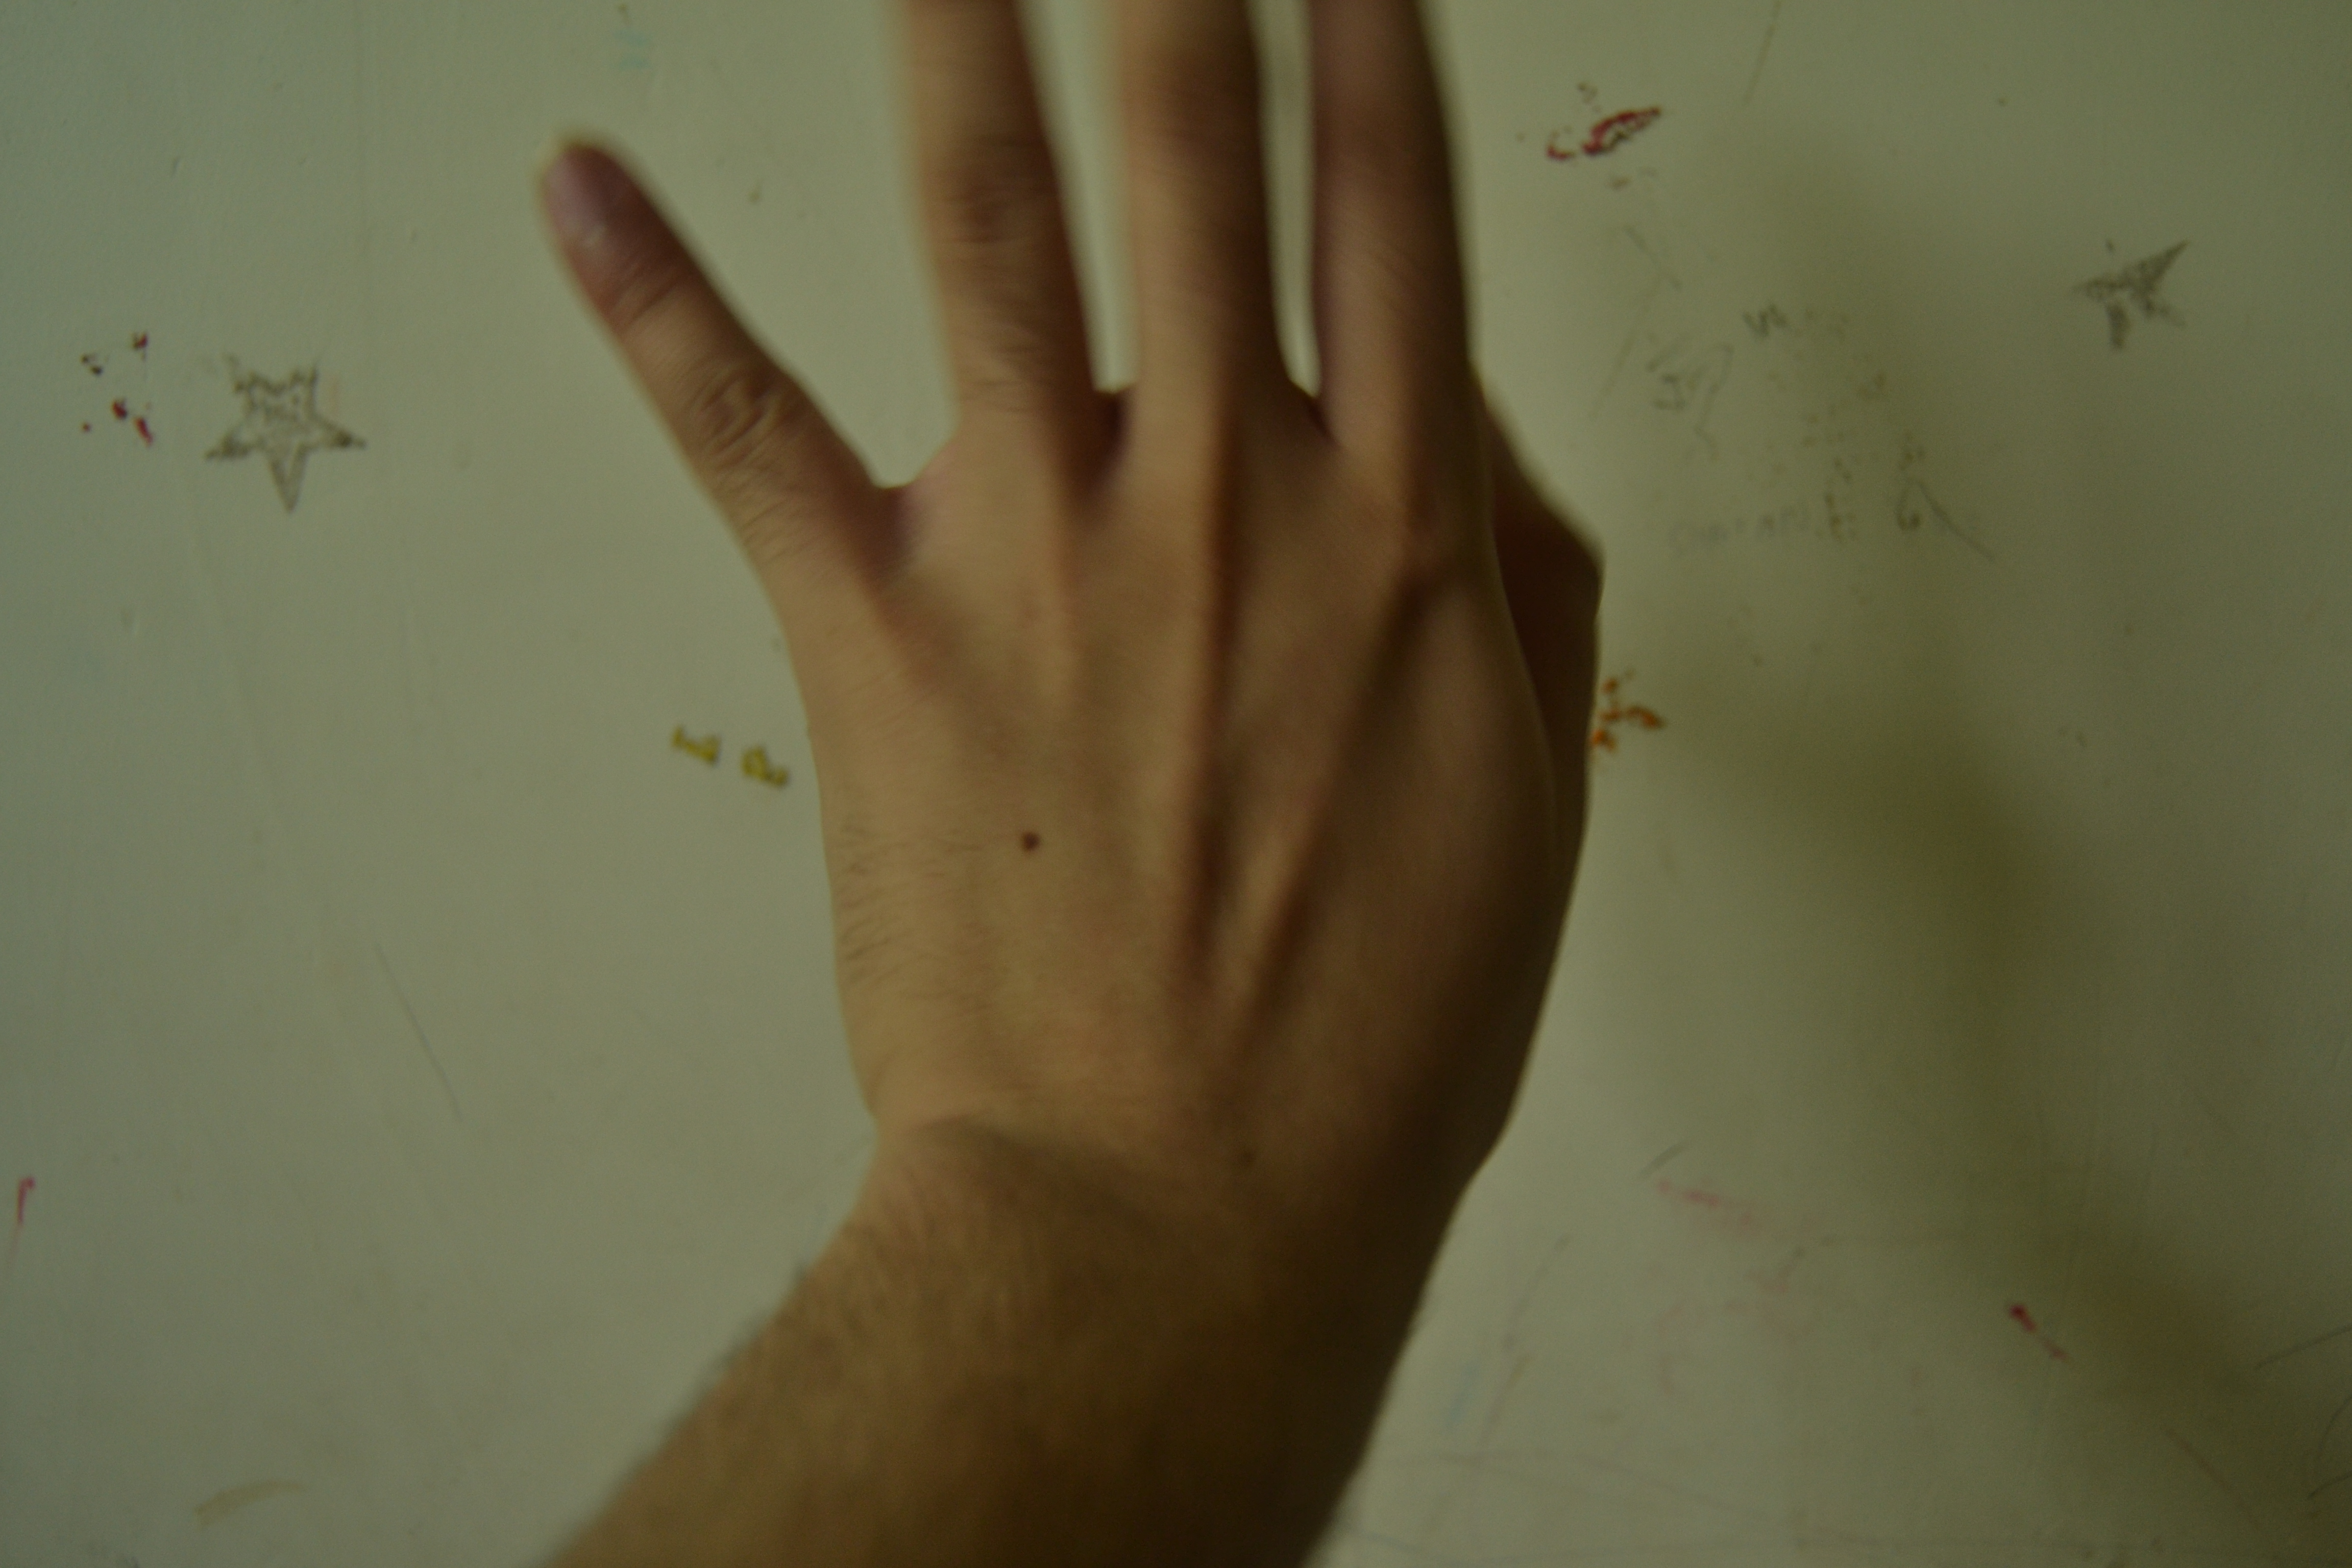move: (441, 3, 1745, 1398)
